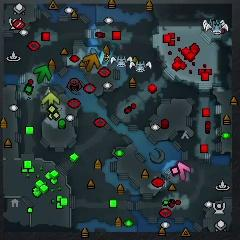x1: (172, 162, 191, 180)
x2: (42, 93, 60, 107)
x3: (91, 48, 105, 64)
x4: (34, 65, 51, 82)
x5: (83, 54, 100, 71)
